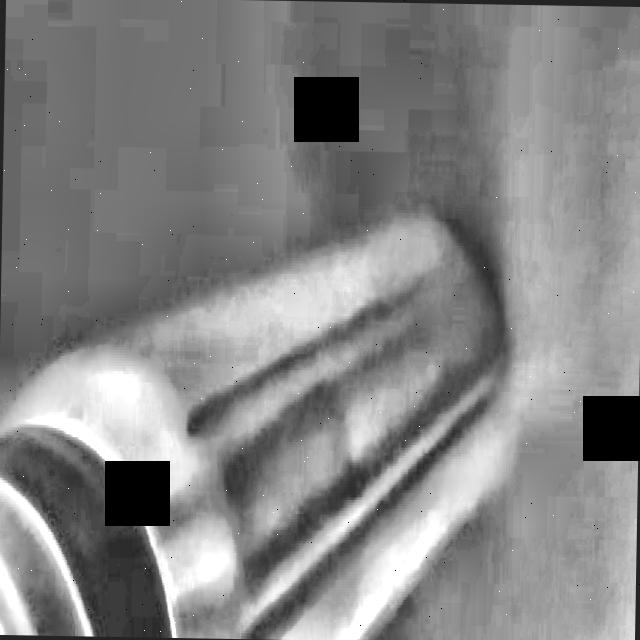bottle: (0, 207, 512, 640)
